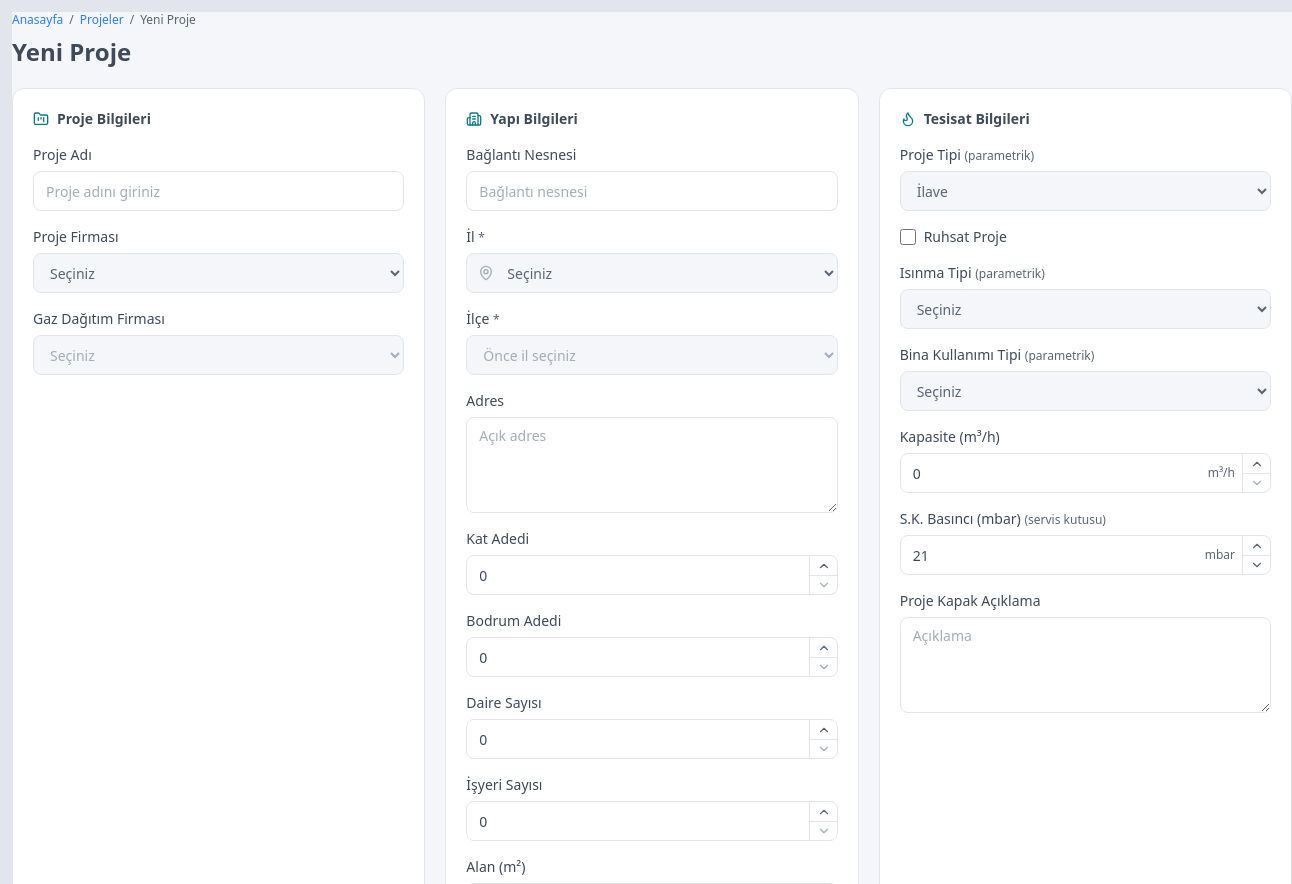
Test: NewProjectPage — firma kutularının kaynağı › gaz dağıtım firması listesi yüklenemezse sebebi yazar
Select "Anadolu Mühendislik" in the dropdown labelled "Proje Firması": (219, 273) [33, 253, 404, 293]
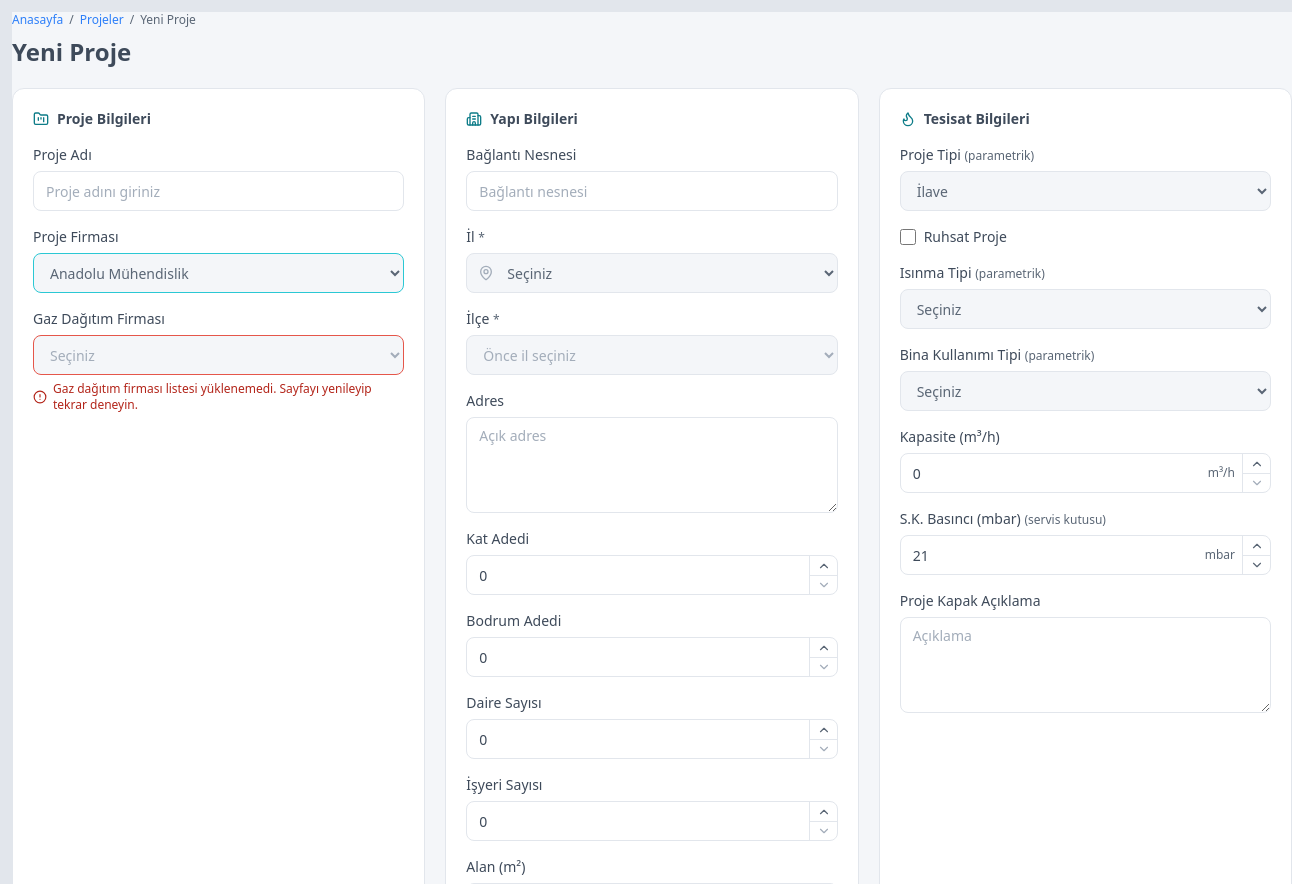
Check: the text "Gaz dağıtım firması listesi yüklenemedi. Sayfayı yenileyip tekrar deneyin." is shown, box [33, 381, 404, 413]
